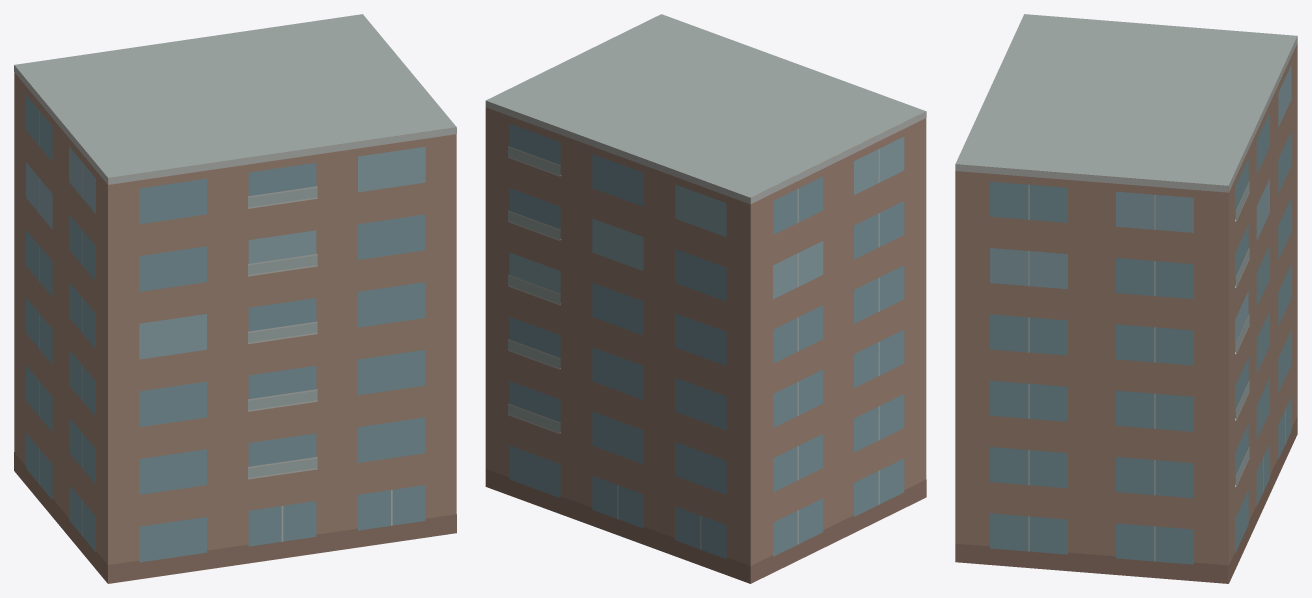
The model's file is survey-upis-32697968.glb.
3 views of the same model, side by side, from view 1: azimuth 30°, elevation 25°; view 2: azimuth 150°, elevation 25°; view 3: azimuth 270°, elevation 25° (orthographic). The views are drawn at different scales.
Parts seen in each view (by area): view 1: survey-upis-32697968.tmp; view 2: survey-upis-32697968.tmp; view 3: survey-upis-32697968.tmp.
Part boxes in pixels (<box>): survey-upis-32697968.tmp: <box>14,14,456,583</box>; survey-upis-32697968.tmp: <box>485,14,926,583</box>; survey-upis-32697968.tmp: <box>955,14,1297,583</box>.
Size of the model in its own units: 13.16 by 14.2 by 11.08.
